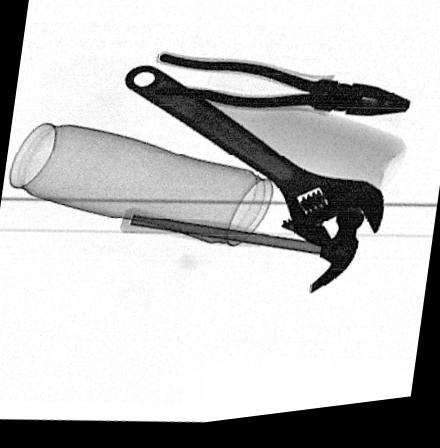Hammer: (116, 211, 367, 305)
Pliers: (150, 55, 412, 126)
Wrench: (124, 66, 385, 259)
